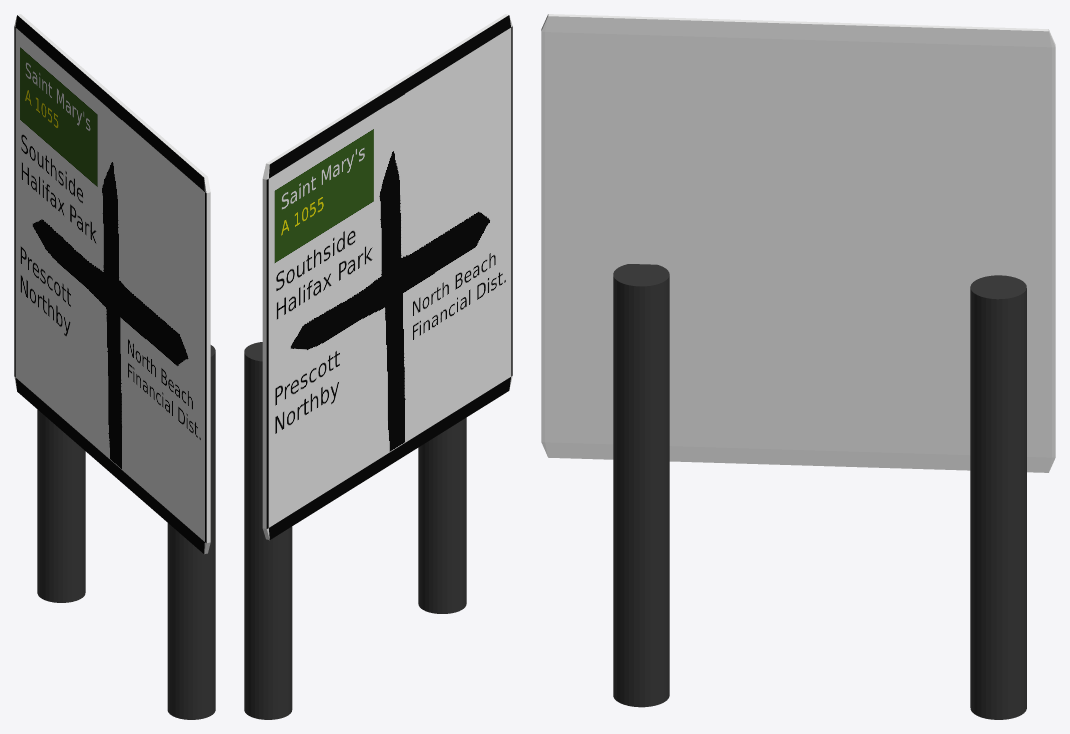
Rendered from TheOrbitalJunctionSign3.fbx.
3 views of the same model, side by side, from view 1: azimuth 30°, elevation 25°; view 2: azimuth 150°, elevation 25°; view 3: azimuth 270°, elevation 25° (orthographic). The views are drawn at different scales.
Visible parts, largest first — view 1: Cube.030, Cylinder.001, Cylinder.002; view 2: Cube.030, Cylinder.002, Cylinder.001; view 3: Cube.030, Cylinder.002, Cylinder.001.
Part boxes in pixels (x1,y1,x2,y2): Cube.030: [14, 14, 210, 554]; Cylinder.001: [167, 345, 215, 719]; Cylinder.002: [37, 409, 85, 602]; Cube.030: [262, 14, 512, 540]; Cylinder.002: [244, 342, 292, 719]; Cylinder.001: [418, 417, 466, 613]; Cube.030: [541, 14, 1055, 472]; Cylinder.002: [970, 275, 1026, 719]; Cylinder.001: [613, 264, 669, 707].
Size of the model in its own units: 108 by 824 by 577.
